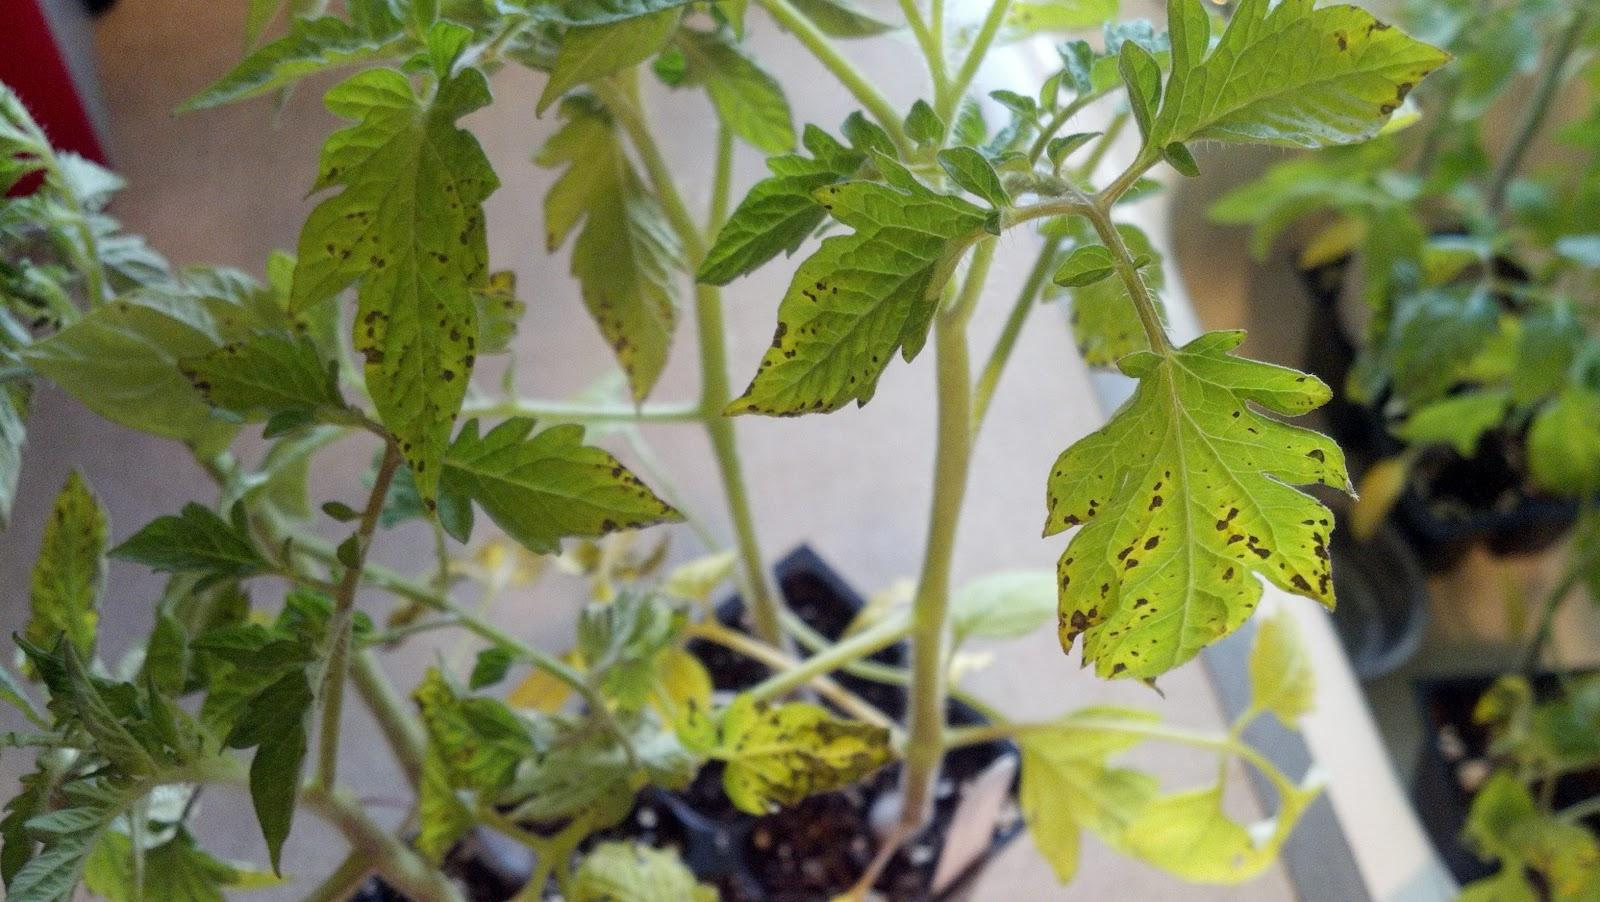Tomato Septoria leaf spot: (1031, 355, 1353, 733), (278, 87, 514, 537), (698, 164, 1016, 425), (393, 414, 700, 584), (700, 680, 910, 834)
